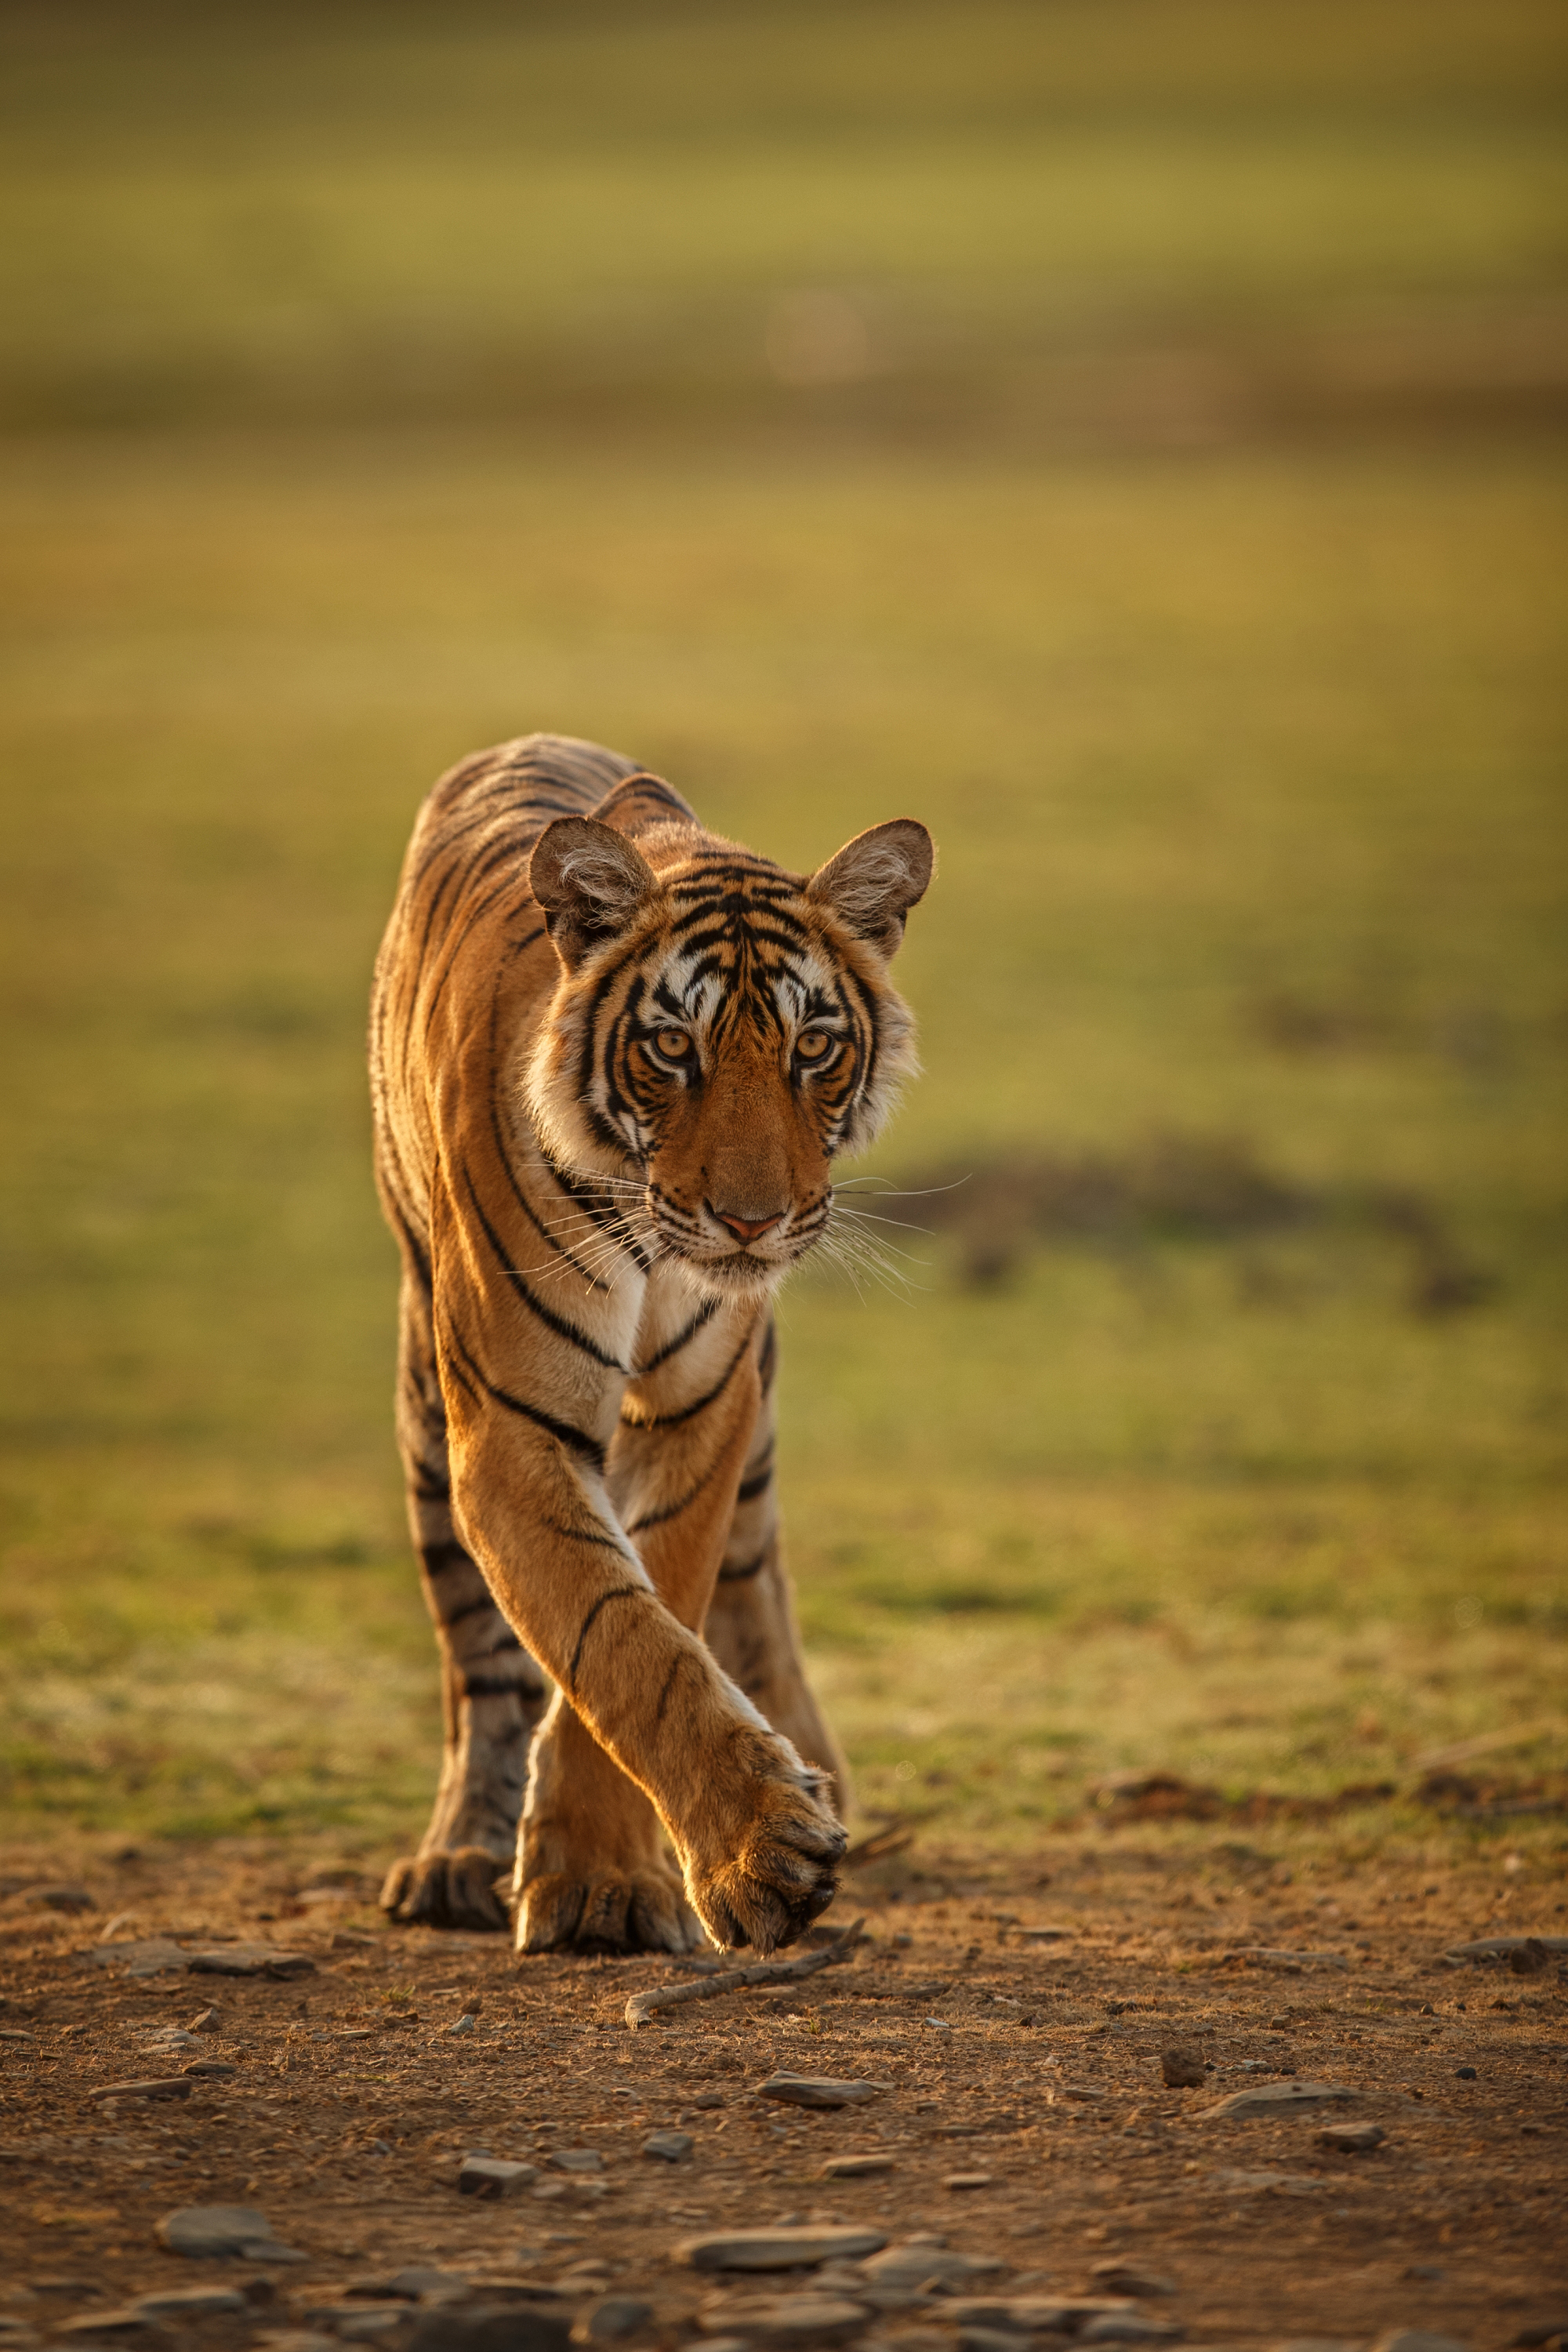tiger: (324, 719, 978, 2016)
